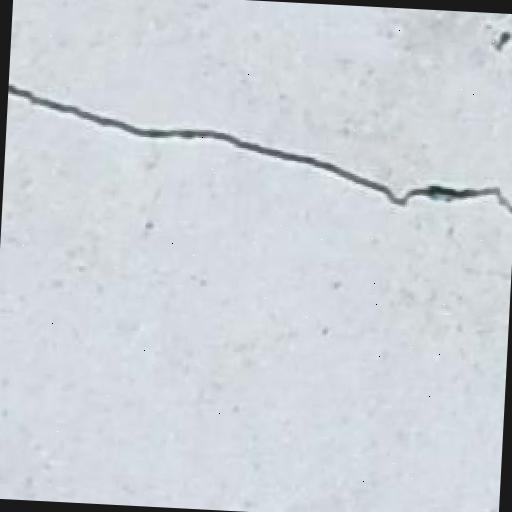spalling: (15, 69, 512, 251)
